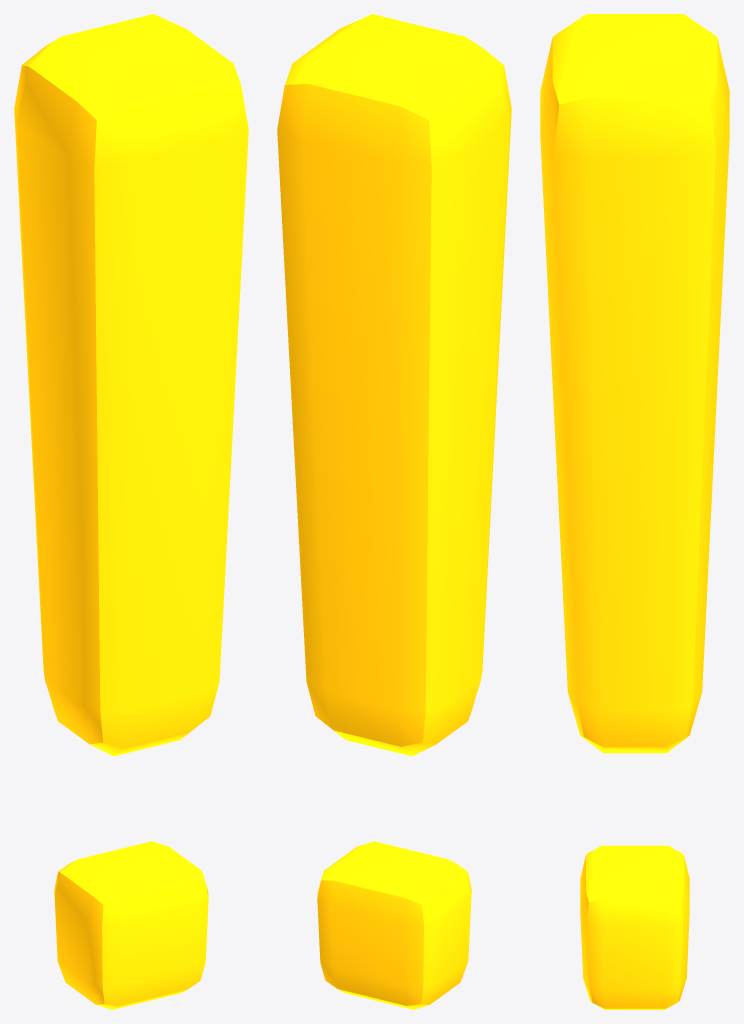
File: QuestExclamation.glb
3 renders of one model, left to right at view 1: azimuth 30°, elevation 25°; view 2: azimuth 150°, elevation 25°; view 3: azimuth 270°, elevation 25°, orthographic.
Parts seen in each view (by area): view 1: node_QuestExclamation; view 2: node_QuestExclamation; view 3: node_QuestExclamation.
Boxes of the visible parts, bbox=[...] form: node_QuestExclamation: bbox=[14, 14, 248, 1009]; node_QuestExclamation: bbox=[277, 14, 511, 1009]; node_QuestExclamation: bbox=[540, 14, 729, 1009].
Size of the model in its own units: 0.1201 by 0.6009 by 0.1079.
